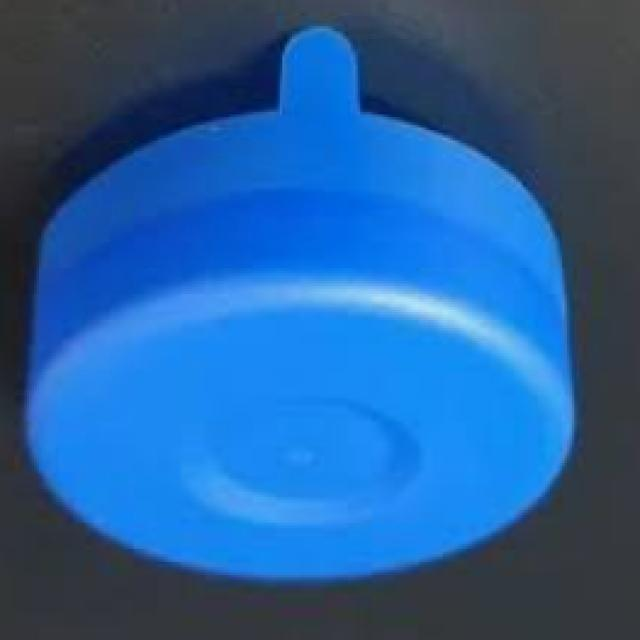TutupGalon: (19, 26, 580, 588)
